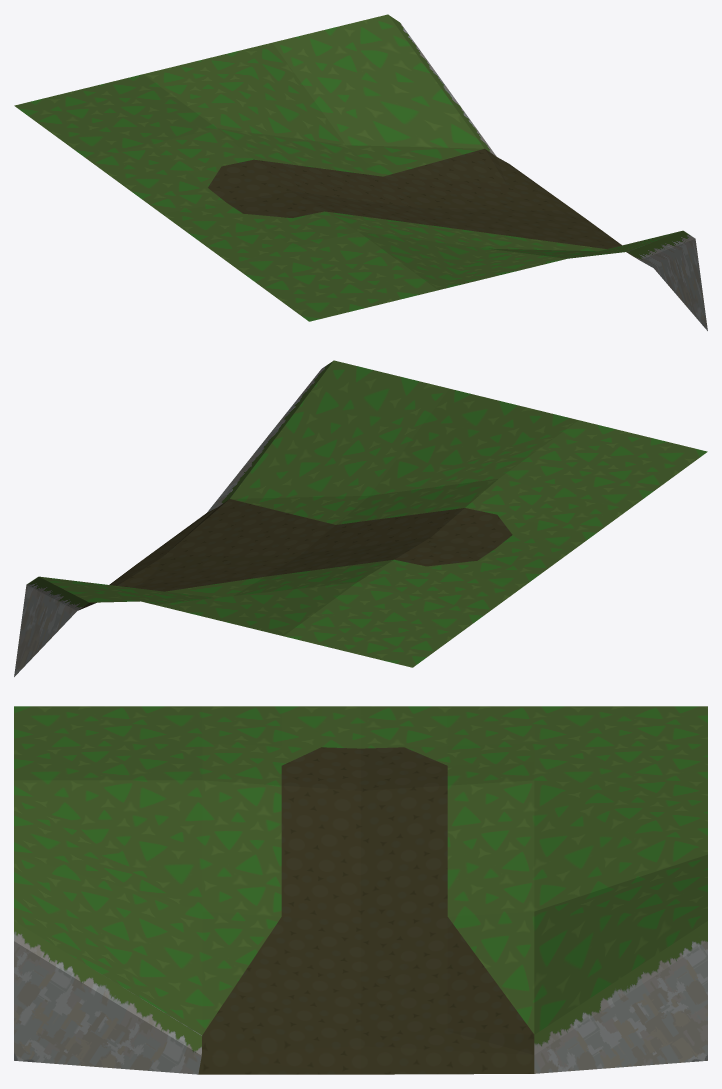
File: chunk_0012.glb
The picture shows the model from 3 angles, top to bottom: view 1: azimuth 30°, elevation 25°; view 2: azimuth 150°, elevation 25°; view 3: azimuth 270°, elevation 25°; orthographic projection. The views are drawn at different scales.
Visible parts, largest first — view 1: chunk_0012; view 2: chunk_0012; view 3: chunk_0012.
Part boxes in pixels (x1=…): chunk_0012: x1=14, y1=14, x2=707, y2=330; chunk_0012: x1=14, y1=360, x2=707, y2=676; chunk_0012: x1=14, y1=706, x2=707, y2=1074.
Bounding box in the file's own units: 8.27 × 2 × 10.
Materials: 3 (3 with a texture image).
